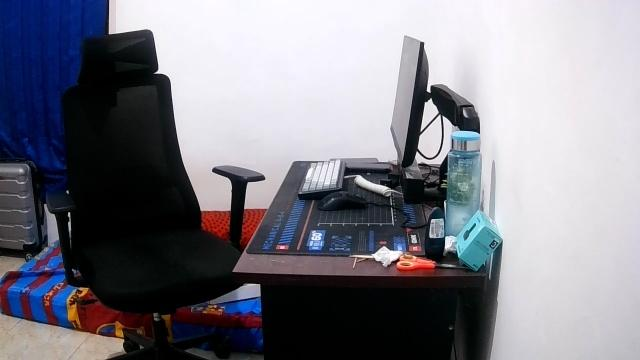AIO PC-Monitor-TV: (388, 34, 429, 168)
Kursi: (45, 27, 267, 359)
Meja: (231, 158, 486, 316)
